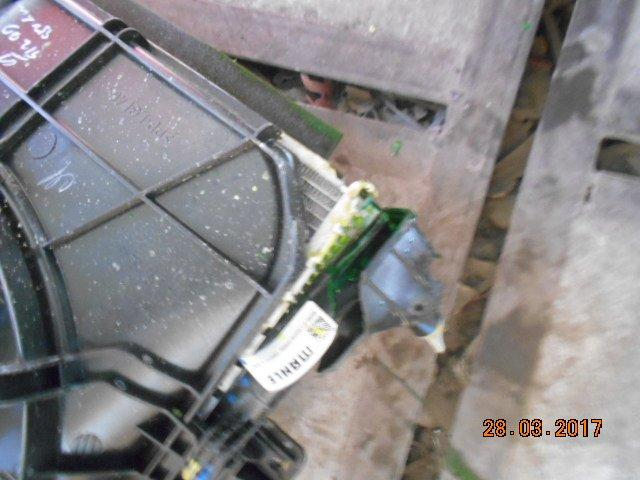Dent: (199, 223, 380, 385)
